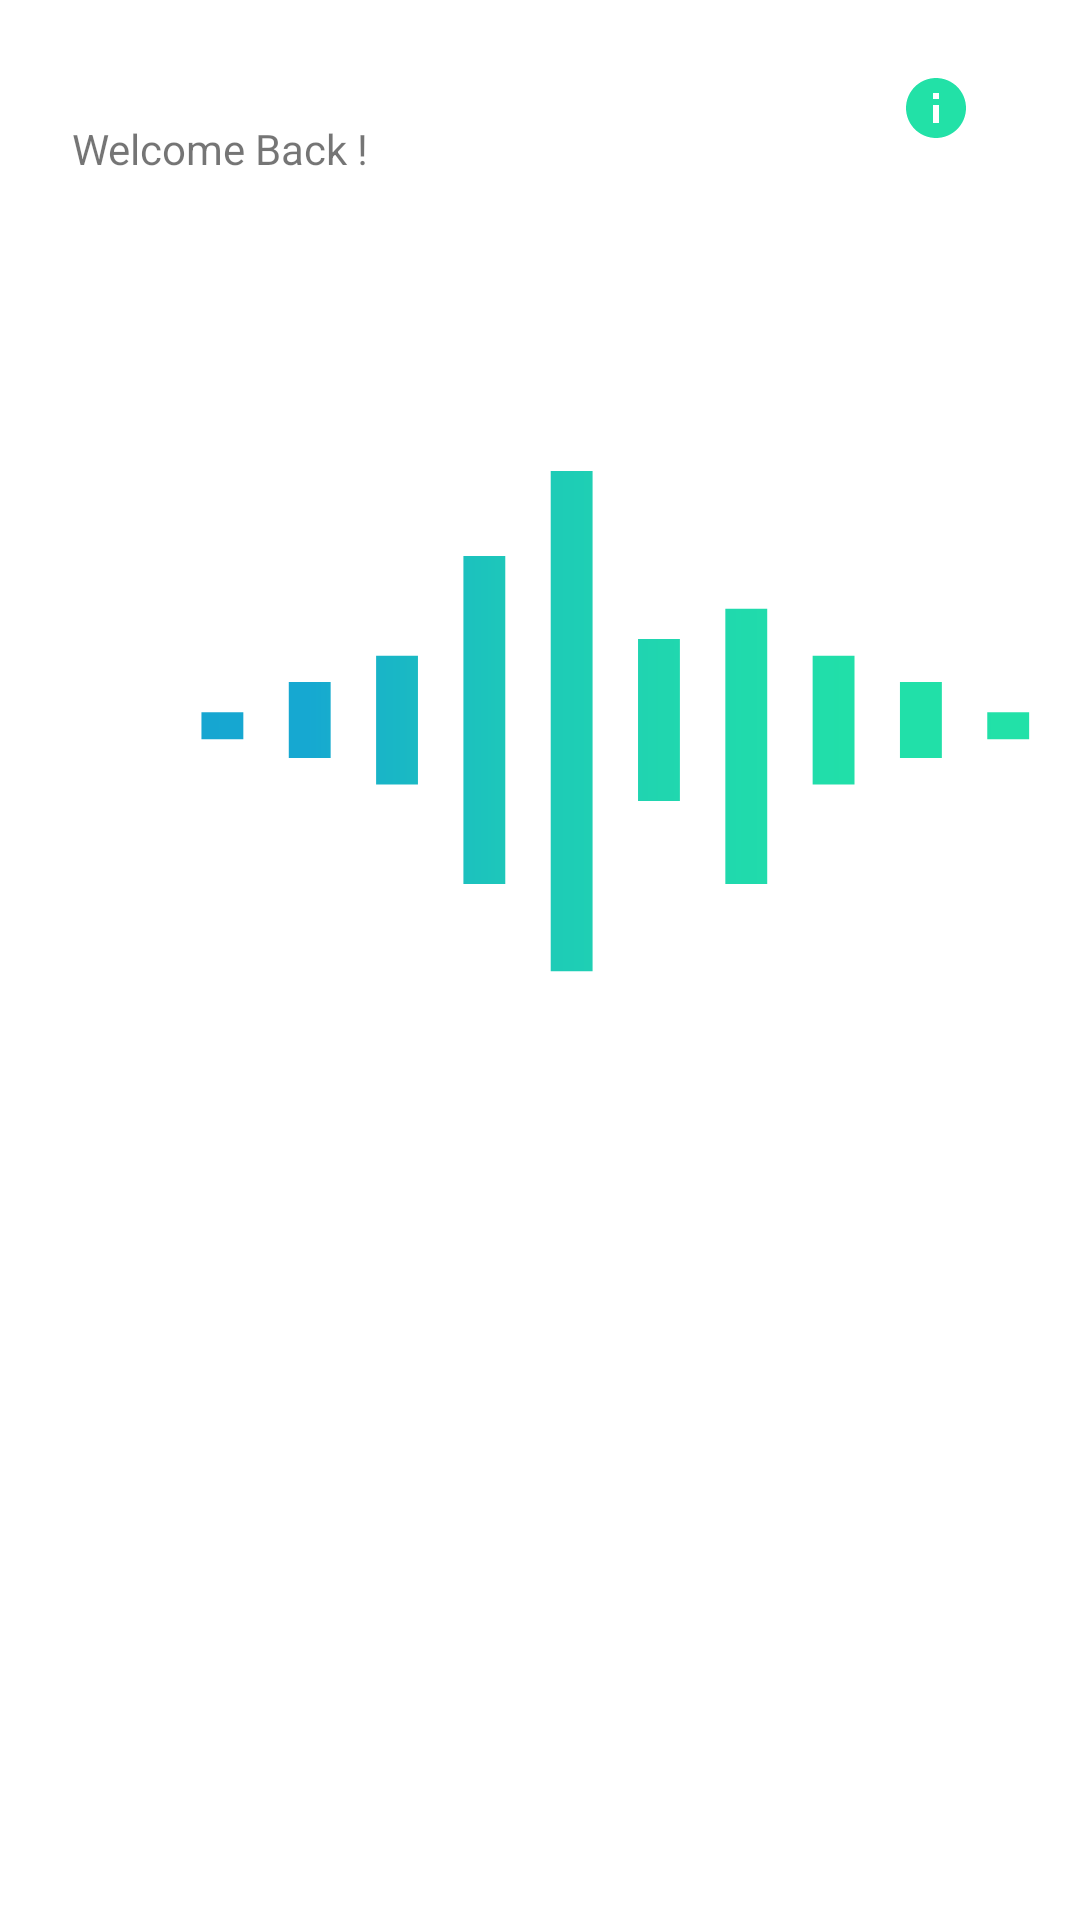

Locate icon controls on the screen. Image size 1080x1920, boxes as {"x1": x1, "y1": y1, "x2": x2, "y2": y2}.
info: {"x1": 906, "y1": 78, "x2": 966, "y2": 138}
